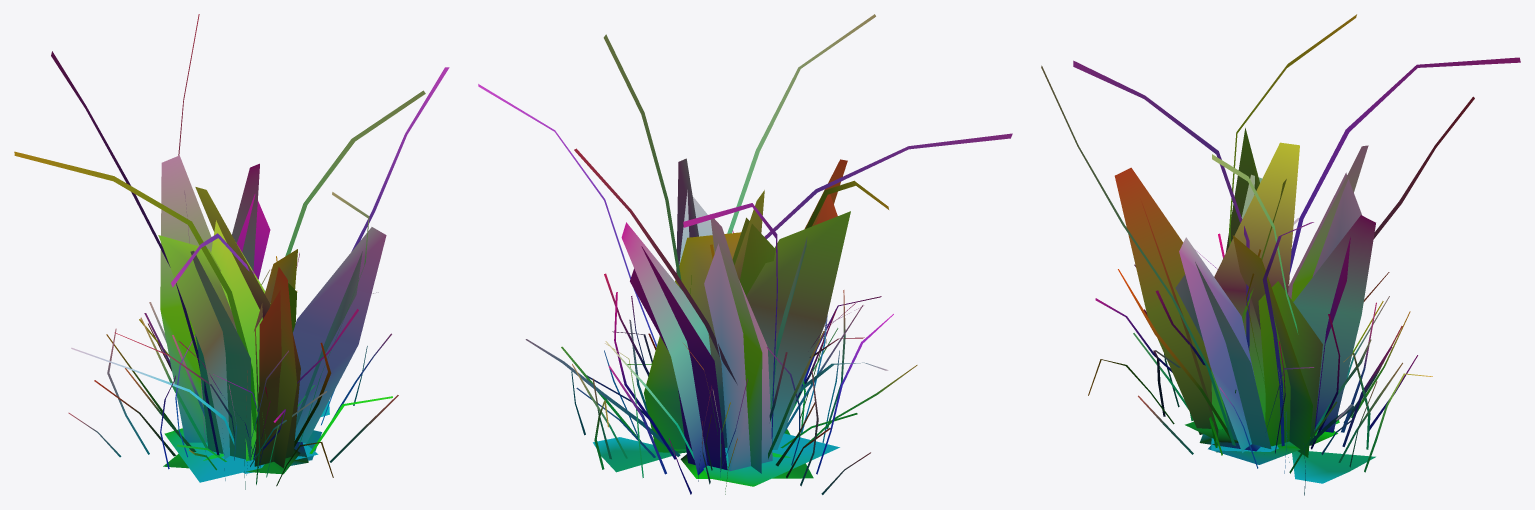
File: uddmcgbia_VarK_LOD1.fbx
3 views of the same model, side by side, from view 1: azimuth 30°, elevation 25°; view 2: azimuth 150°, elevation 25°; view 3: azimuth 270°, elevation 25° (orthographic). The views are drawn at different scales.
Visible parts, largest first — view 1: _952d_VarK_LOD2; view 2: _952d_VarK_LOD2; view 3: _952d_VarK_LOD2.
Part boxes in pixels (x1,y1,x2,y2): _952d_VarK_LOD2: [14, 14, 449, 489]; _952d_VarK_LOD2: [478, 14, 1012, 494]; _952d_VarK_LOD2: [1041, 14, 1520, 495].
Size of the model in its own units: 22.85 by 18.65 by 22.24.
